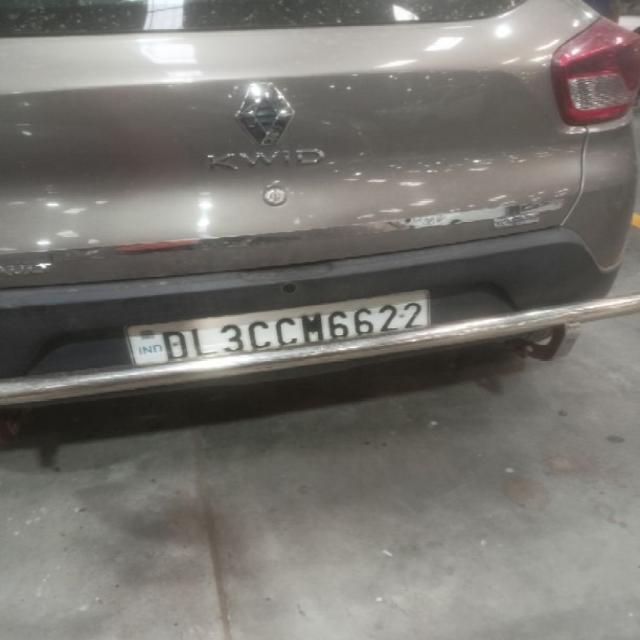license_plate: (122, 288, 432, 367)
